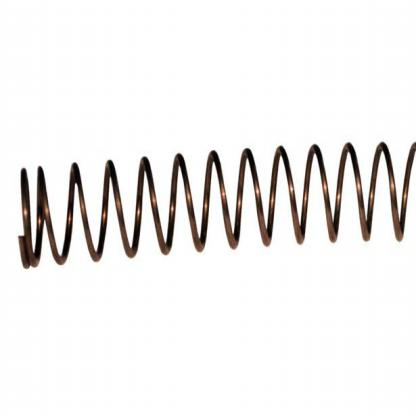FOD: (15, 137, 416, 272)
